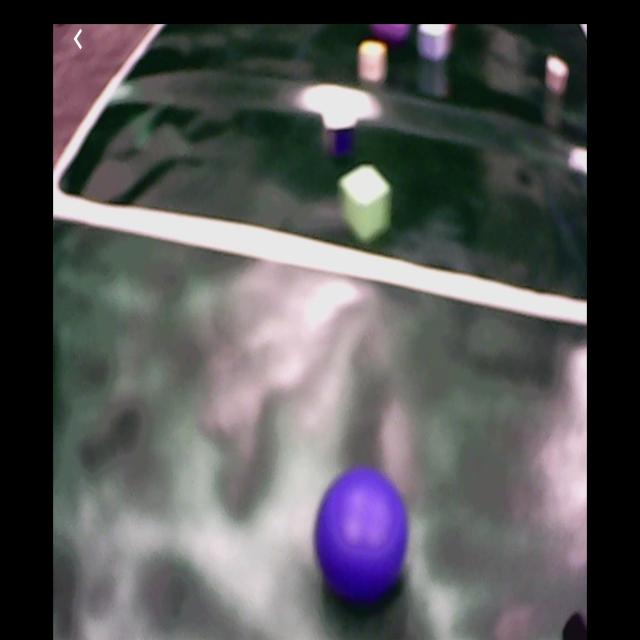ball: (317, 467, 408, 599), (372, 23, 410, 48)
